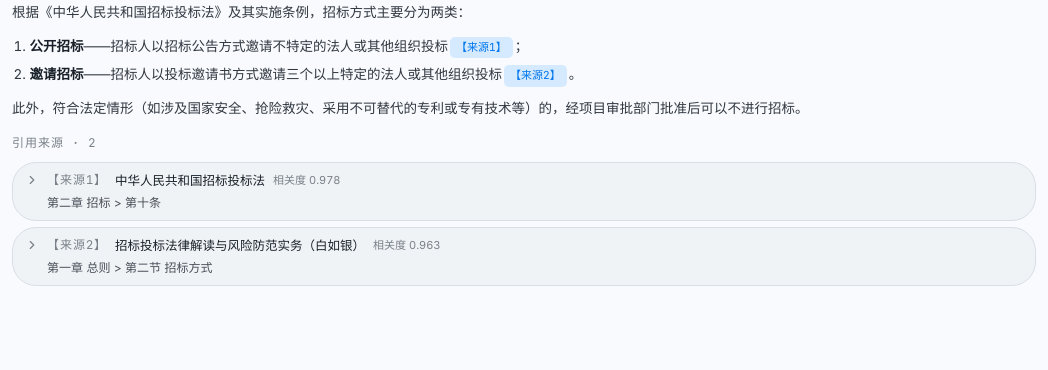
Scenario: ReplyRenderer 注册表 › kb_answer：正文 + 引用卡片，点【来源N】展开原文
Expected: the text "引用来源 · 2" is shown, [12, 135, 96, 151]
# 正文里的标记是可点击控件（不是死文字）
Click the button "【来源1】" at x=481, y=48, box [450, 37, 513, 58]
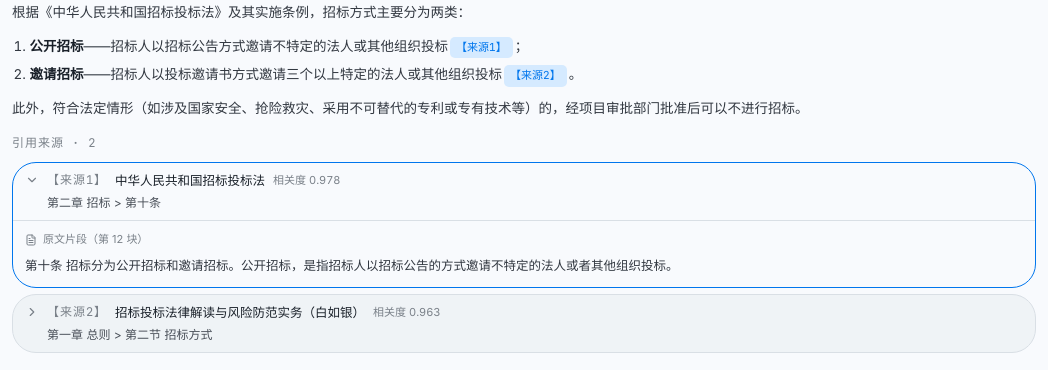
Result: the button "【来源1】 中华人民共和国招标投标法 相关度 0.978 第二章 招标 > 第十条" is expanded at [13, 163, 1035, 220]
Result: the text "第十条 招标分为公开招标和邀请招标。公开招标，是指招标人以招标公告的方式邀请不特定的法人或者其他组织投标。" is shown at [25, 258, 678, 273]
